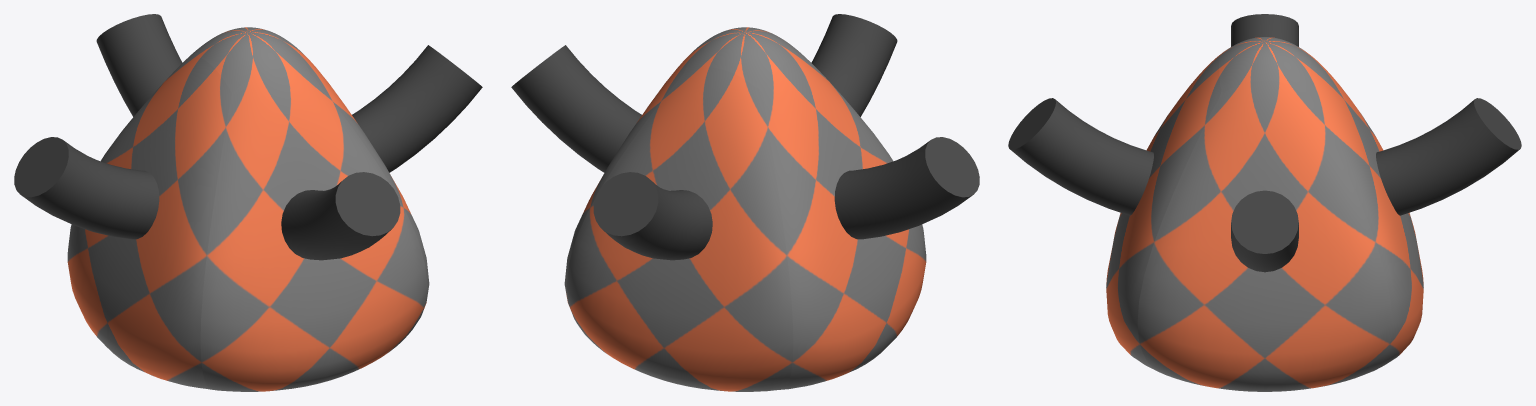
The model's file is Body(Pyramidal)+Colour(More_Orange)+Arms(Bent_Up)+Pattern(Diamond).fbx.
3 views of the same model, side by side, from view 1: azimuth 30°, elevation 25°; view 2: azimuth 150°, elevation 25°; view 3: azimuth 270°, elevation 25° (orthographic). The views are drawn at different scales.
Parts seen in each view (by area): view 1: Body(Pyramidal)+Colour(More_Orange)+Arms(Bent_Up)+Pattern(Di (×5); view 2: Body(Pyramidal)+Colour(More_Orange)+Arms(Bent_Up)+Pattern(Di (×5); view 3: Body(Pyramidal)+Colour(More_Orange)+Arms(Bent_Up)+Pattern(Di (×5).
Part boxes in pixels (x1,y1,x2,y2): Body(Pyramidal)+Colour(More_Orange)+Arms(Bent_Up)+Pattern(Di (×5): [14, 14, 482, 391]; Body(Pyramidal)+Colour(More_Orange)+Arms(Bent_Up)+Pattern(Di (×5): [511, 14, 979, 391]; Body(Pyramidal)+Colour(More_Orange)+Arms(Bent_Up)+Pattern(Di (×5): [1008, 14, 1521, 391].
Bounding box in the file's own units: 60.67 × 40 × 60.67.
2 materials, 2 textured.
